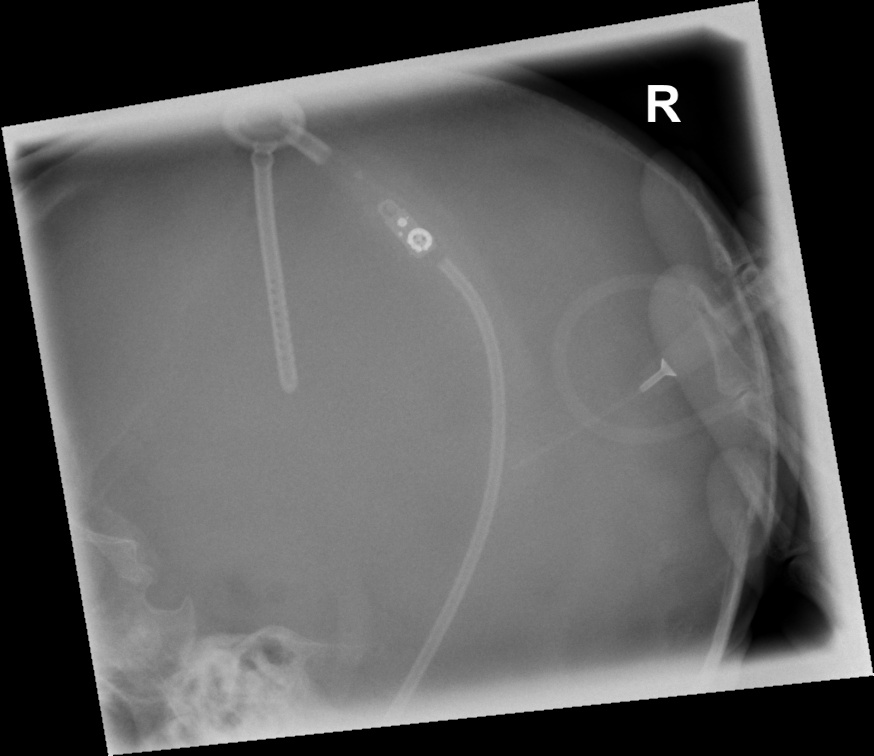Codman Hakim: (386, 209, 437, 264)
